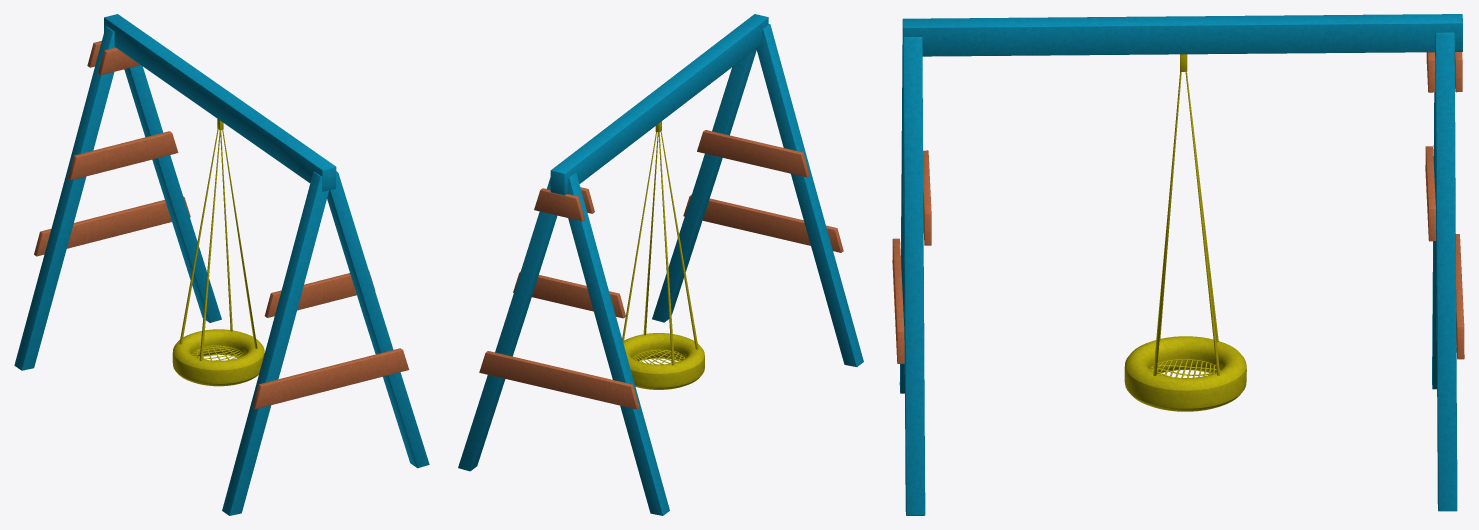
The model's file is swing.glb.
3 renders of one model, left to right at view 1: azimuth 30°, elevation 25°; view 2: azimuth 150°, elevation 25°; view 3: azimuth 270°, elevation 25°, orthographic. The views are drawn at different scales.
Visible parts, largest first — view 1: swing; view 2: swing; view 3: swing.
Boxes of the visible parts, box(x1,y1,x2,y2) form: swing: box(14, 14, 429, 515); swing: box(458, 14, 863, 515); swing: box(892, 14, 1464, 515).
Size of the model in its own units: 1.02 by 1.5 by 1.82.
1 material, 1 textured.
